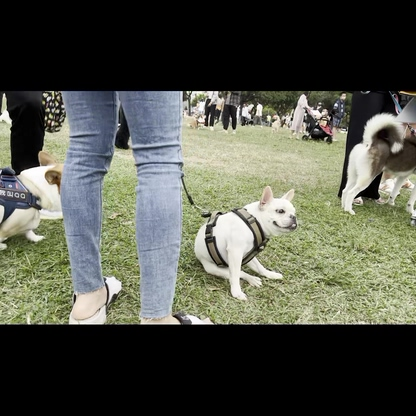bulldog: (192, 184, 299, 302)
